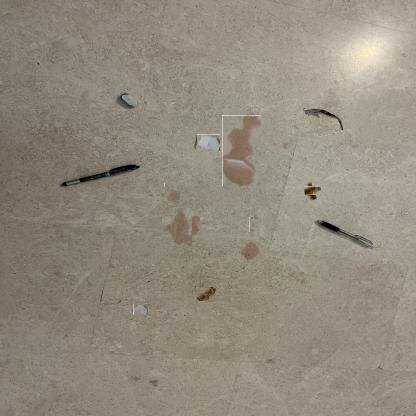dirty: (303, 108, 343, 130), (196, 134, 220, 151), (196, 287, 216, 301), (306, 184, 319, 198), (133, 303, 148, 315)
liquid: (222, 115, 261, 186), (166, 212, 196, 242), (241, 240, 259, 260), (167, 190, 179, 202), (249, 216, 258, 232), (283, 142, 289, 149), (160, 194, 166, 196), (164, 184, 168, 187)
